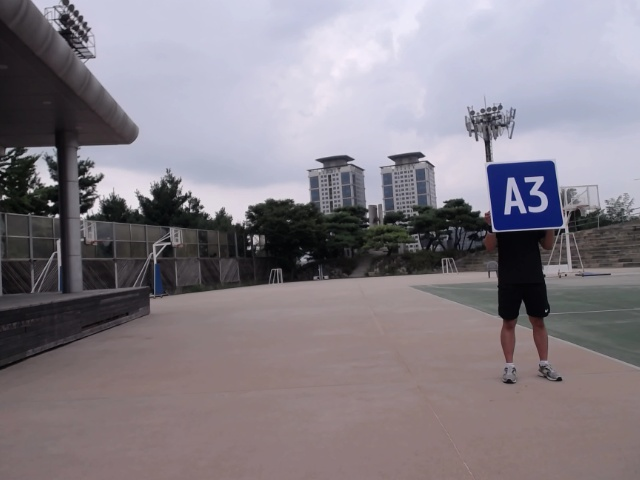delivery_a3: (486, 160, 564, 232)
